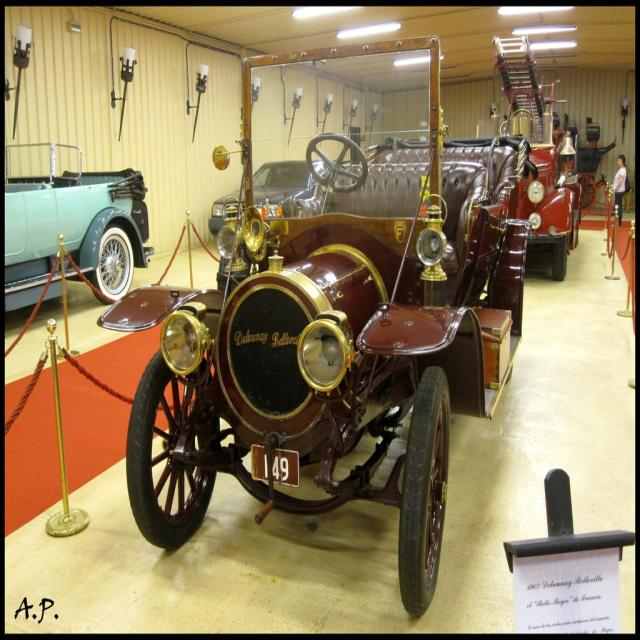car: (96, 39, 534, 621)
